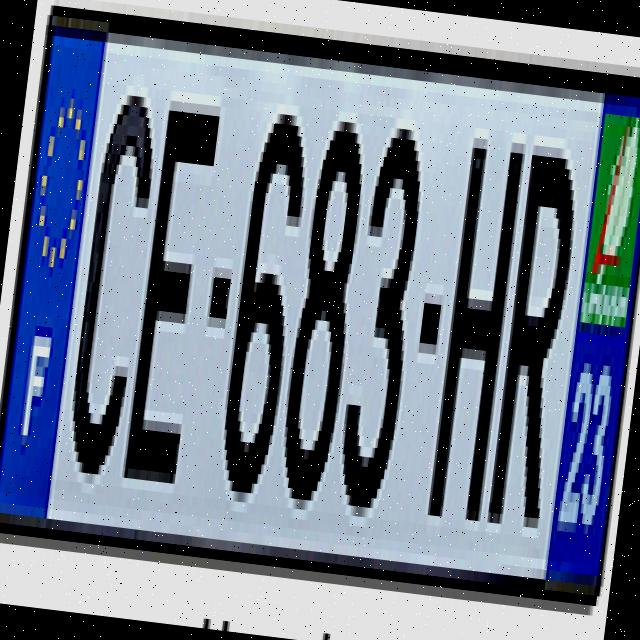EU: (0, 0, 640, 616)
France: (0, 5, 104, 528)
